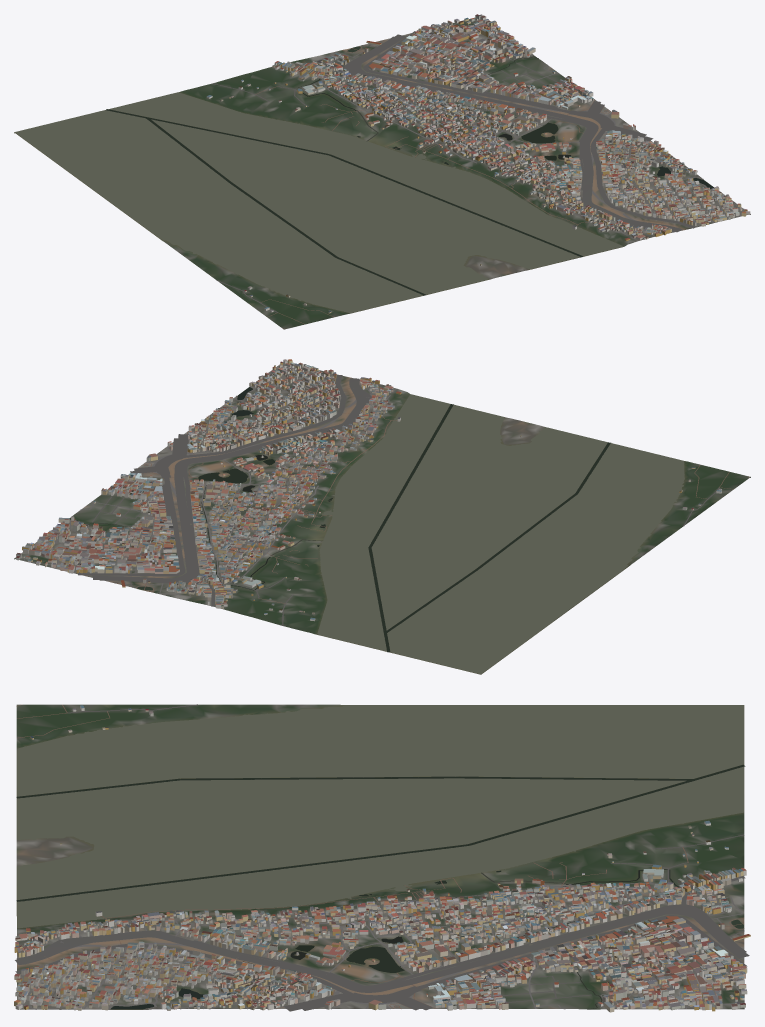
3 renders of one model, top to bottom at view 1: azimuth 30°, elevation 25°; view 2: azimuth 150°, elevation 25°; view 3: azimuth 270°, elevation 25°, orthographic. The views are drawn at different scales.
Visible parts, largest first — view 1: water, buildings, ground, roads; view 2: water, buildings, ground, roads; view 3: water, buildings, ground, roads.
Boxes of the visible parts, x1,y1,x2,y2 form: water: [15, 46, 713, 313]; buildings: [206, 14, 750, 313]; ground: [14, 17, 750, 329]; roads: [212, 20, 743, 328]; water: [70, 387, 684, 674]; buildings: [16, 359, 721, 621]; ground: [14, 362, 750, 674]; roads: [23, 365, 749, 625]; water: [16, 705, 745, 1009]; buildings: [14, 705, 750, 1012]; ground: [16, 704, 744, 1009]; roads: [15, 704, 749, 1011].
Size of the model in its own units: 1416 by 26.72 by 1420.
